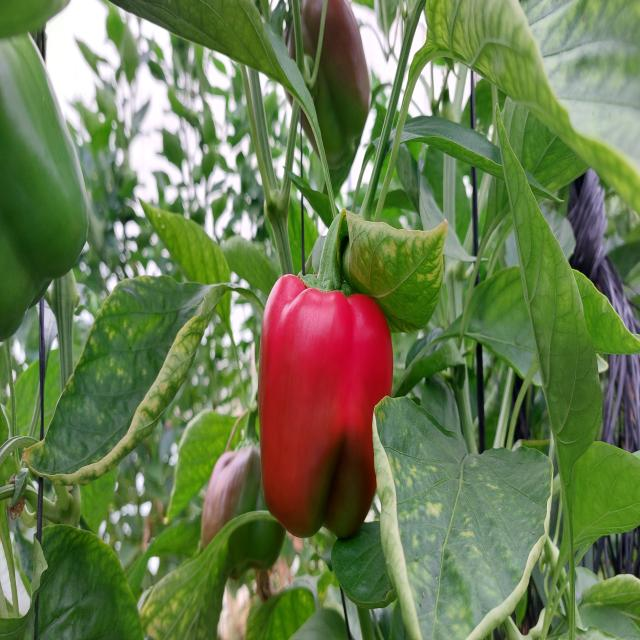Red-Ready-to-Harvest: (255, 263, 393, 553)
